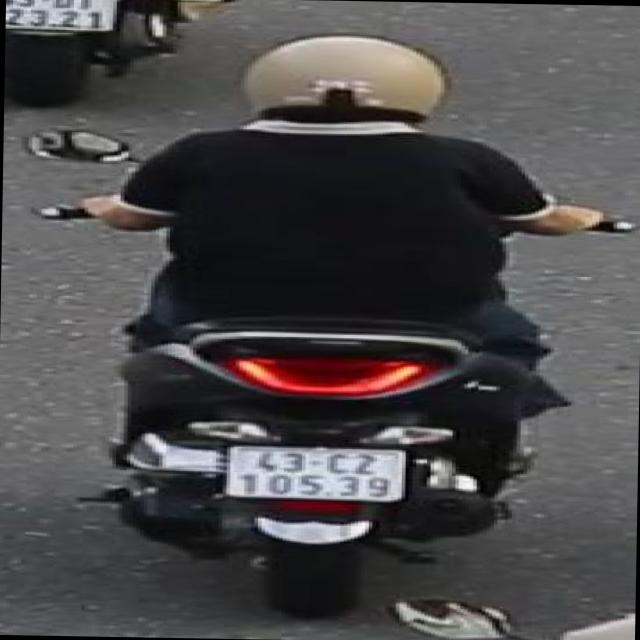LP: (224, 442, 415, 508), (5, 0, 127, 36)
helmet: (234, 27, 454, 142)
